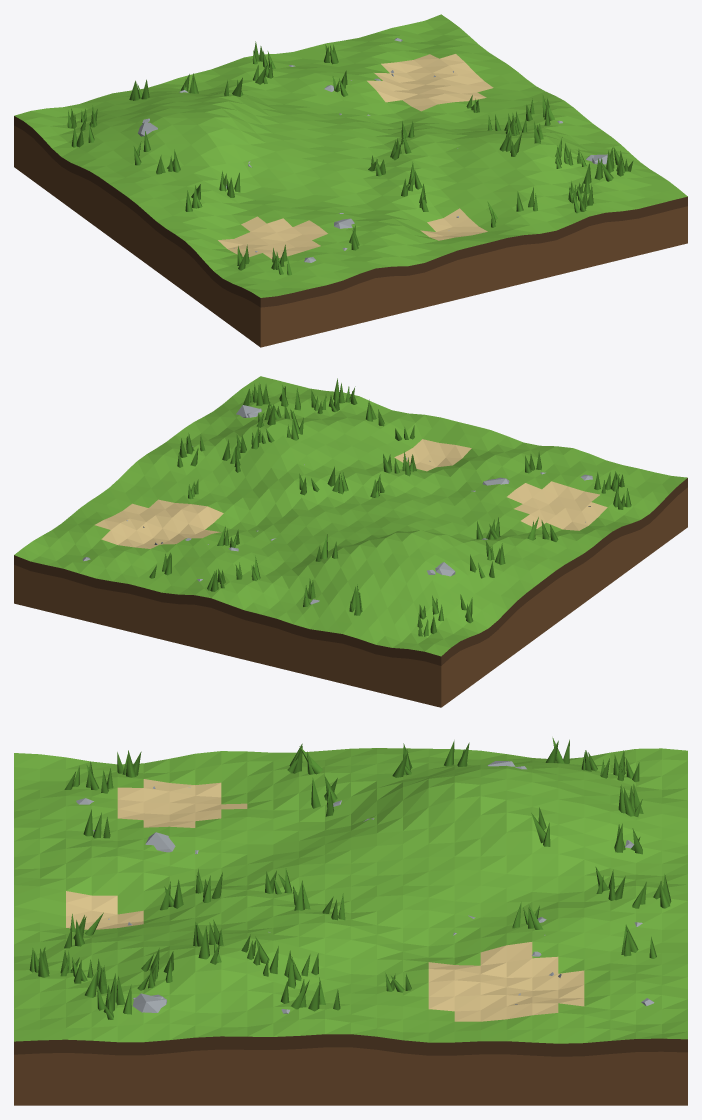
The model's file is isometric-world-tile.glb.
The picture shows the model from 3 angles, top to bottom: view 1: azimuth 30°, elevation 25°; view 2: azimuth 150°, elevation 25°; view 3: azimuth 270°, elevation 25°; orthographic projection. The views are drawn at different scales.
Visible parts, largest first — view 1: terrain_grass, soil_block, grass_tufts, terrain_sand, topsoil_band, rocks; view 2: terrain_grass, soil_block, terrain_sand, grass_tufts, topsoil_band, rocks; view 3: terrain_grass, soil_block, grass_tufts, terrain_sand, topsoil_band, rocks.
Boxes of the visible parts, bbox=[...] form: terrain_grass: bbox=[14, 14, 687, 297]; soil_block: bbox=[14, 125, 687, 347]; grass_tufts: bbox=[67, 41, 633, 275]; terrain_sand: bbox=[218, 54, 493, 258]; topsoil_band: bbox=[14, 116, 687, 307]; rocks: bbox=[138, 38, 613, 262]; terrain_grass: bbox=[14, 376, 687, 656]; soil_block: bbox=[14, 487, 687, 707]; terrain_sand: bbox=[95, 439, 607, 548]; grass_tufts: bbox=[149, 378, 631, 636]; topsoil_band: bbox=[14, 478, 687, 665]; rocks: bbox=[82, 405, 592, 604]; terrain_grass: bbox=[14, 748, 687, 1043]; soil_block: bbox=[14, 1047, 687, 1105]; grass_tufts: bbox=[29, 737, 671, 1019]; terrain_sand: bbox=[66, 779, 584, 1021]; topsoil_band: bbox=[14, 1034, 687, 1056]; rocks: bbox=[76, 761, 654, 1013].
Bounding box in the file's own units: 14 × 2.86 × 14.
